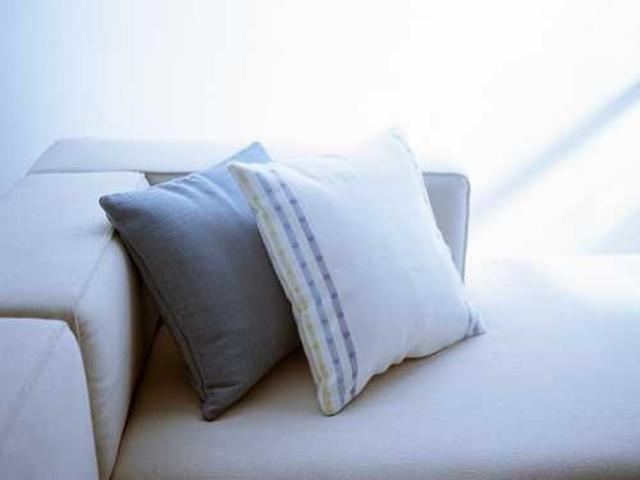pillow: (226, 126, 487, 416), (98, 140, 302, 420)
